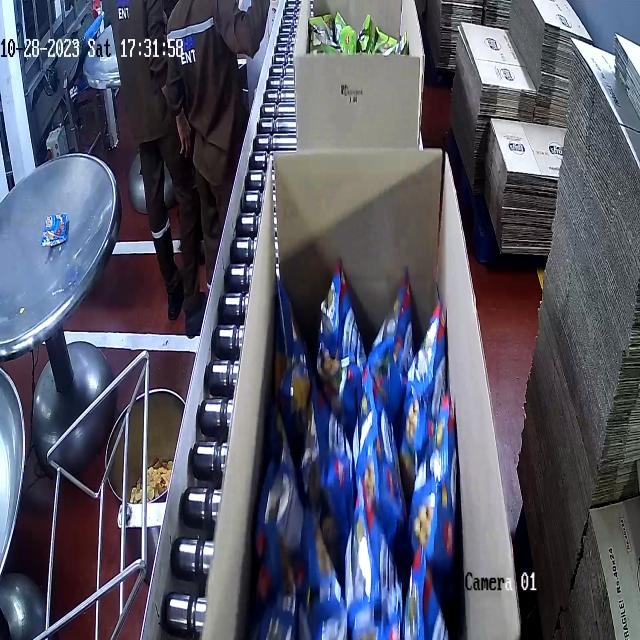PAPRIKA: (256, 263, 467, 640)
